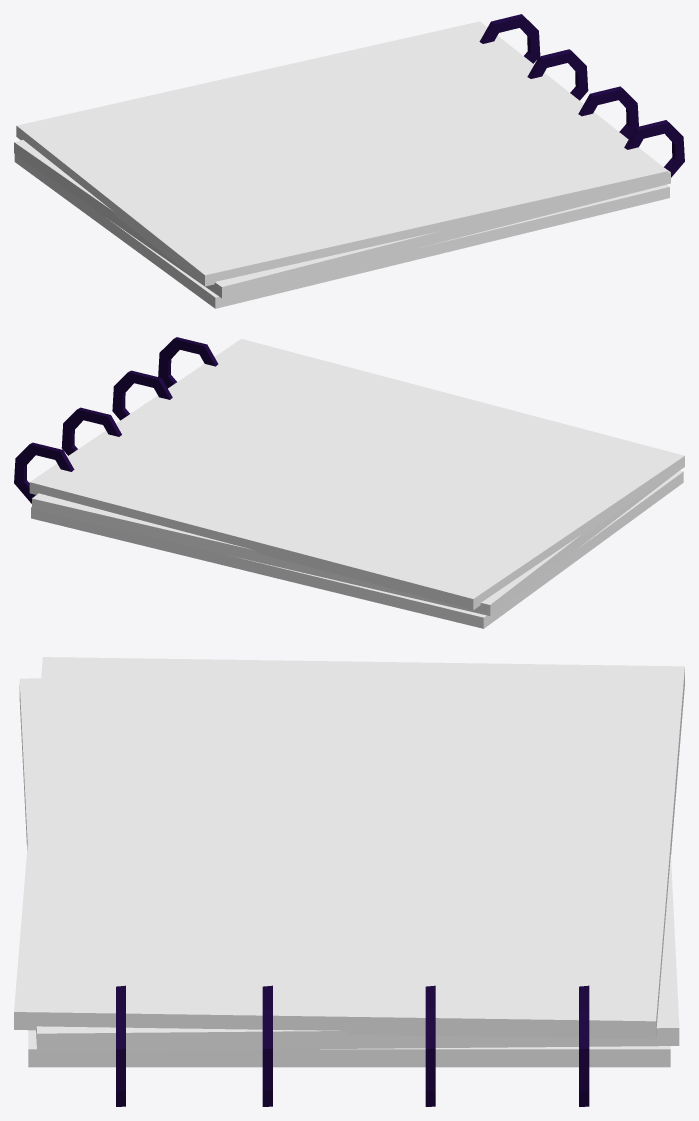
The model's file is SM_Notepad5.fbx.
3 renders of one model, top to bottom at view 1: azimuth 30°, elevation 25°; view 2: azimuth 150°, elevation 25°; view 3: azimuth 270°, elevation 25°, orthographic. The views are drawn at different scales.
Visible parts, largest first — view 1: SM_Notepad5; view 2: SM_Notepad5; view 3: SM_Notepad5.
Boxes of the visible parts, left/top/right/bottom form: SM_Notepad5: left=14, top=14, right=684, bottom=308; SM_Notepad5: left=14, top=337, right=684, bottom=628; SM_Notepad5: left=14, top=657, right=684, bottom=1106.
Bounding box in the file's own units: 24.74 × 17.85 × 3.03.
Materials: 1 (1 with a texture image).
